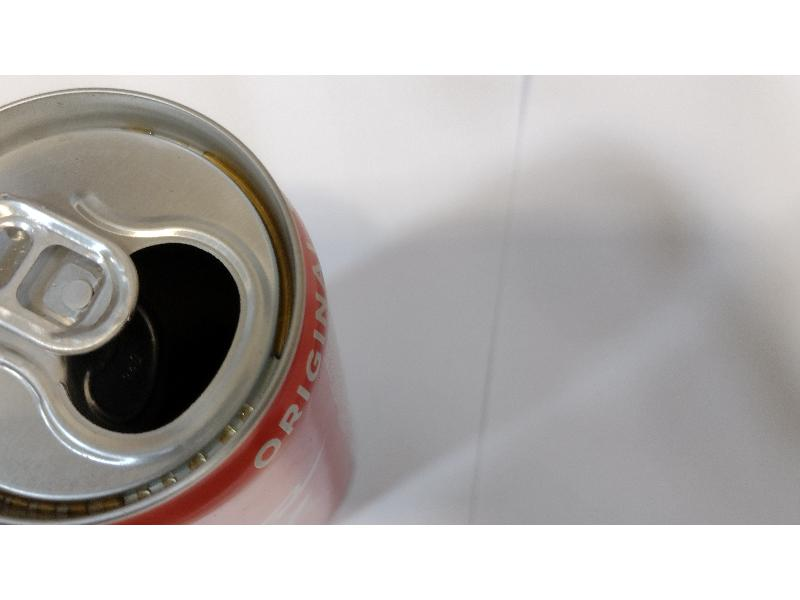can: (0, 84, 361, 524)
